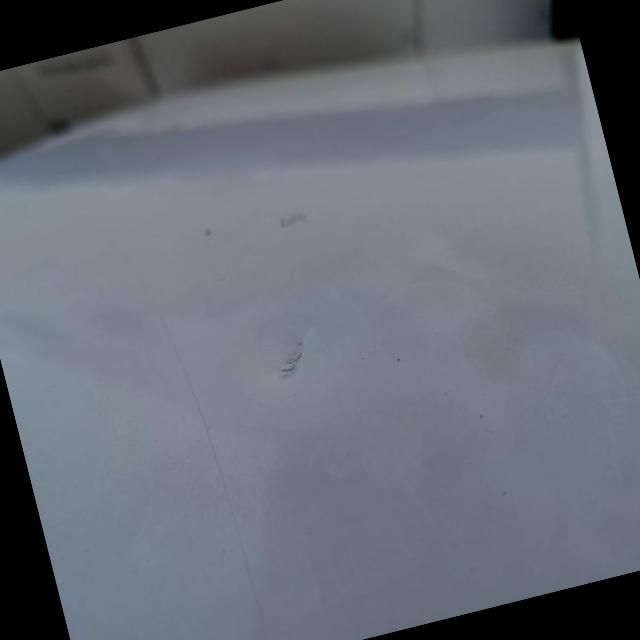dent: (232, 291, 361, 416)
